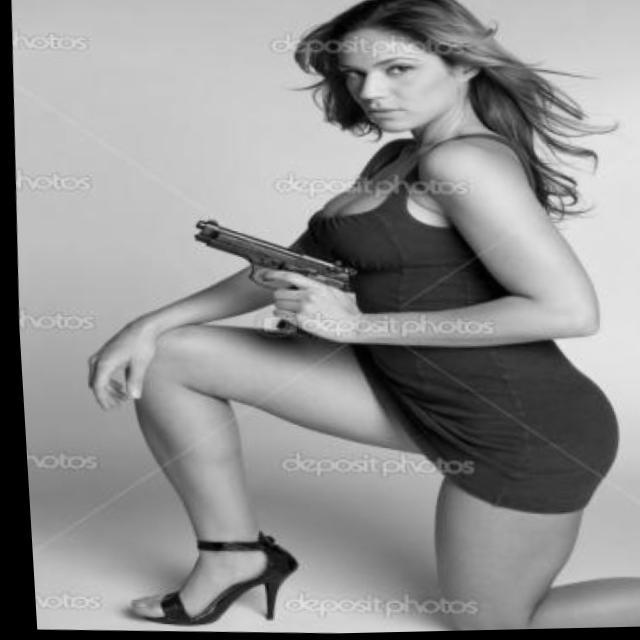weapon: (173, 200, 370, 350)
